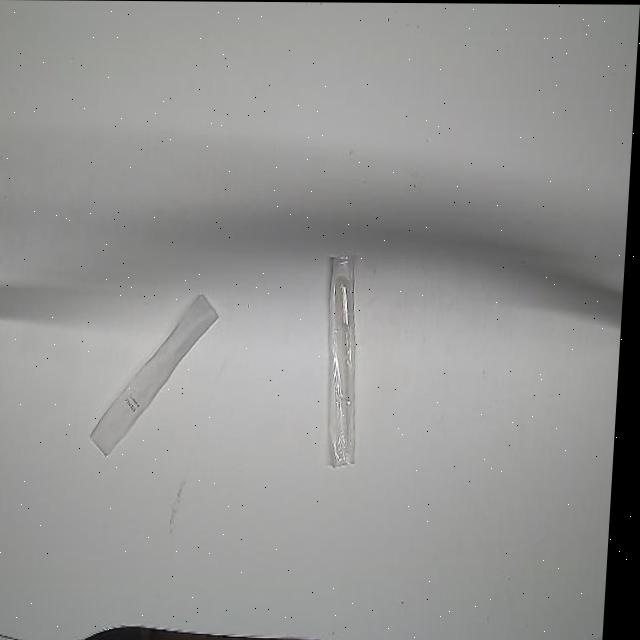Disposable Pasteur Pipette: (92, 288, 226, 458), (320, 251, 376, 470)
